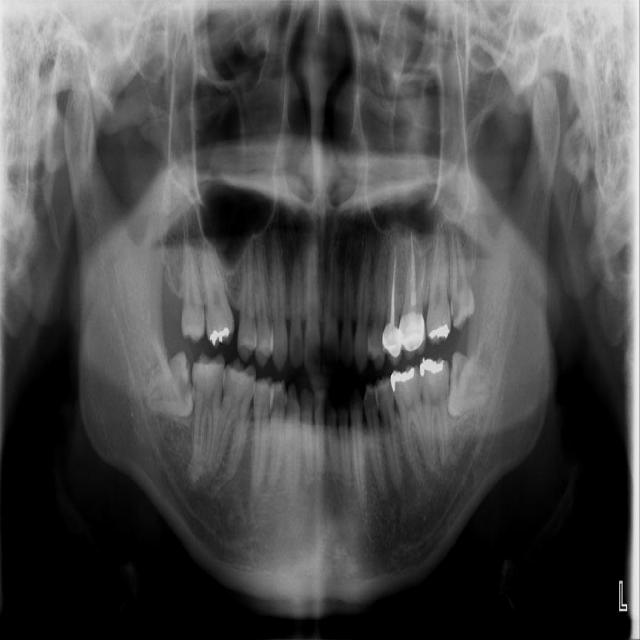Caries: (452, 299, 459, 321)
Crown: (399, 311, 426, 360), (382, 320, 402, 366)
Filling: (390, 366, 417, 394), (418, 359, 448, 380), (225, 365, 254, 385), (427, 320, 450, 342), (209, 325, 229, 345)
Missing teeth: (233, 323, 238, 338)
Root Canal Treatment: (390, 248, 396, 325), (410, 234, 415, 314), (416, 252, 424, 299)
impacted tooth: (138, 351, 194, 415), (444, 353, 495, 417)
